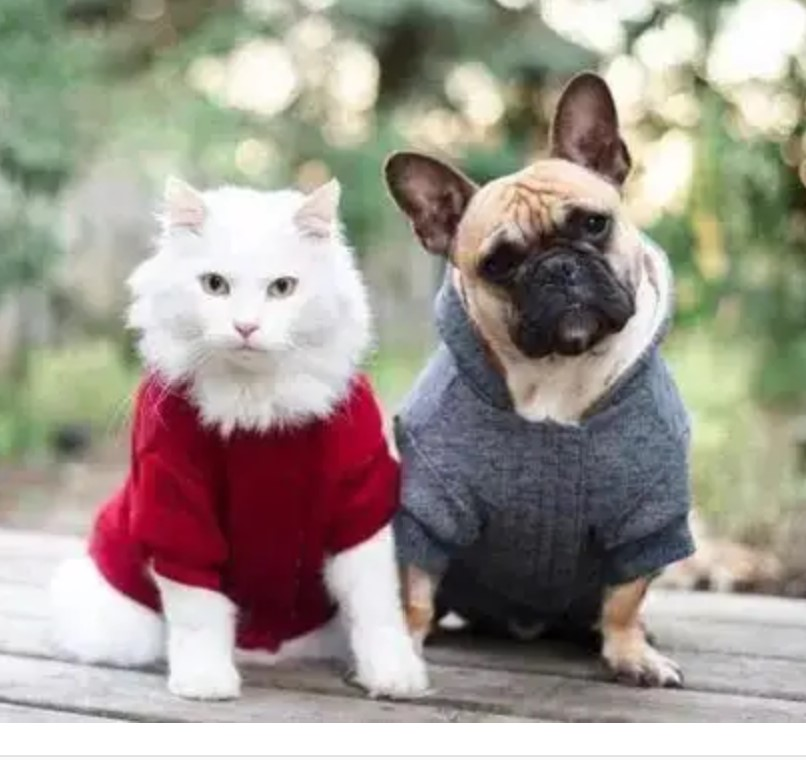cat: (47, 174, 431, 700)
dog: (345, 66, 694, 690)
